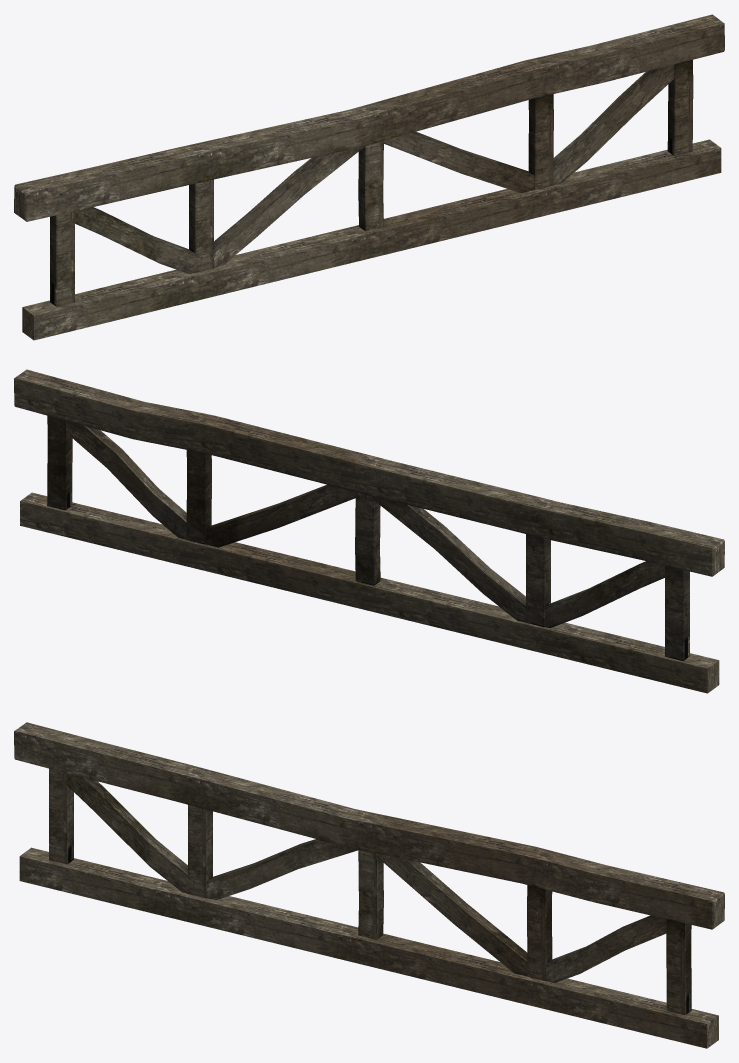
File: 05_02_bridge_fences.dae
The picture shows the model from 3 angles, top to bottom: view 1: azimuth 30°, elevation 25°; view 2: azimuth 150°, elevation 25°; view 3: azimuth 330°, elevation 25°; orthographic projection.
Parts seen in each view (by area): view 1: Object001; view 2: Object001; view 3: Object001.
Part boxes in pixels (x1,y1,x2,y2): Object001: (14, 14, 724, 340); Object001: (14, 369, 724, 693); Object001: (14, 722, 724, 1048).
Bounding box in the file's own units: 6.83 × 1.38 × 0.257.
